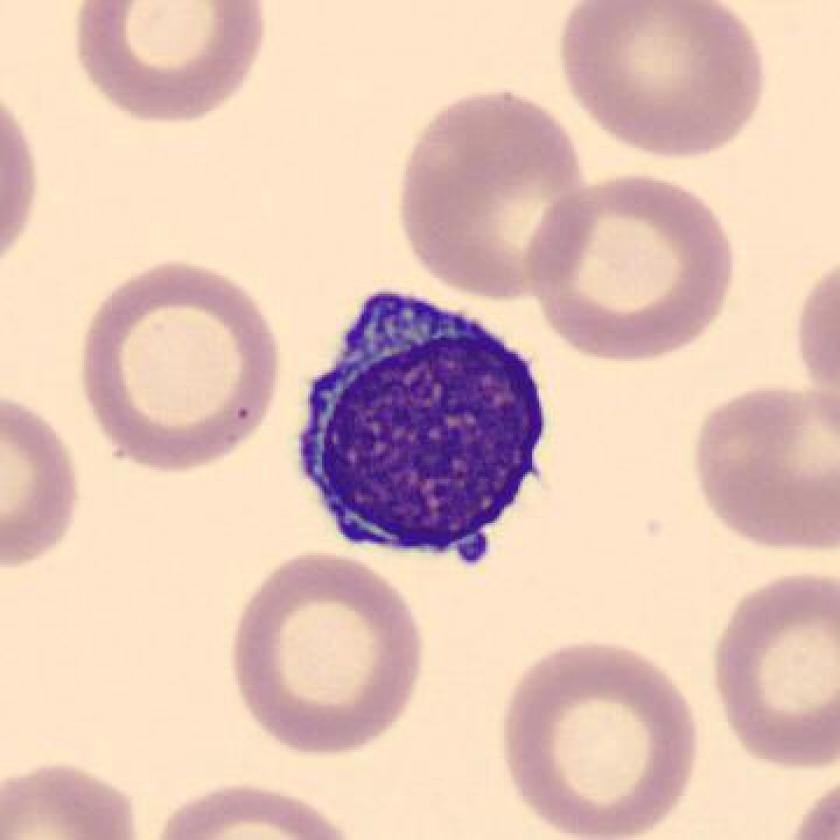lymphocyte: (274, 274, 566, 573)
